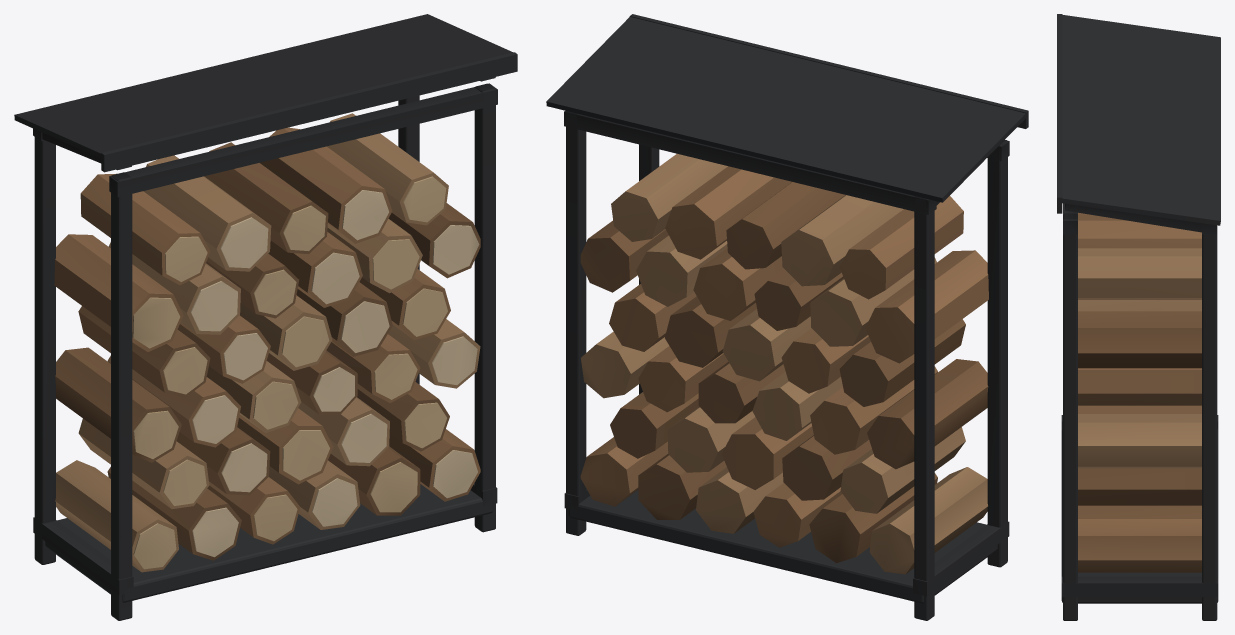
Rendered from firewoodStack.glb.
The picture shows the model from 3 angles, left to right: view 1: azimuth 30°, elevation 25°; view 2: azimuth 150°, elevation 25°; view 3: azimuth 270°, elevation 25°; orthographic projection. The views are drawn at different scales.
Parts seen in each view (by area): view 1: firewoodStack; view 2: firewoodStack; view 3: firewoodStack.
Boxes of the visible parts, bbox=[...] form: firewoodStack: bbox=[14, 14, 517, 620]; firewoodStack: bbox=[546, 14, 1028, 620]; firewoodStack: bbox=[1057, 14, 1220, 620].
Bounding box in the file's own units: 1 × 1.1 × 0.3769.
